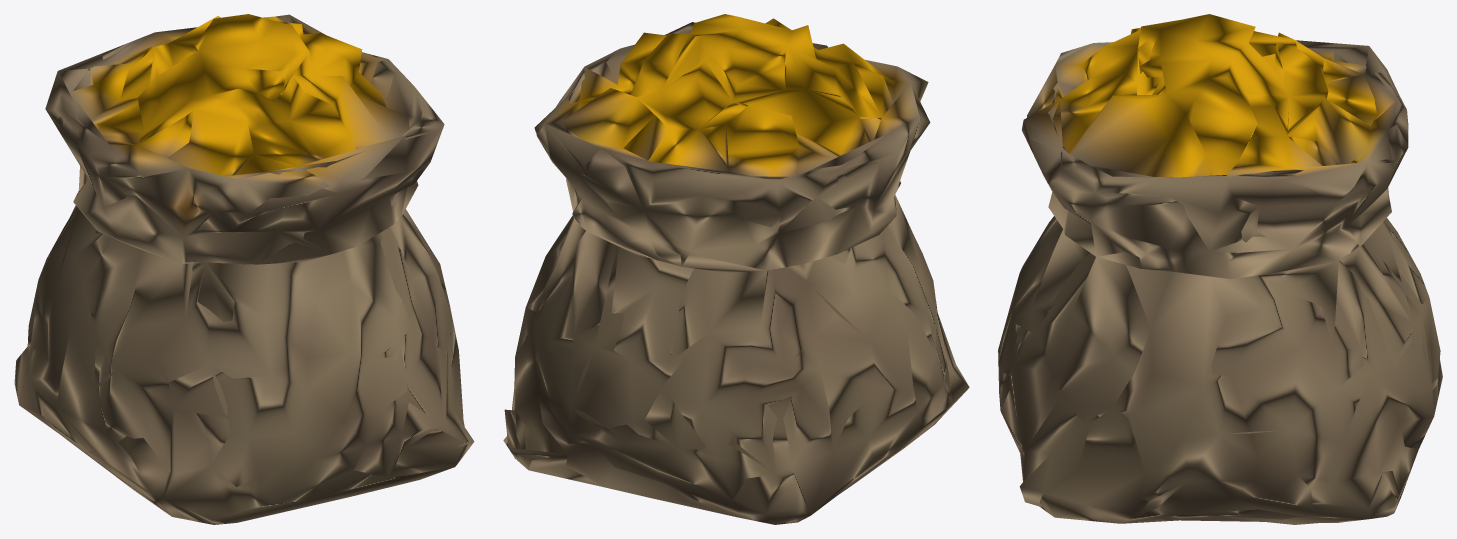
File: gen3d-treasure-sack-lod0.glb
3 renders of one model, left to right at view 1: azimuth 30°, elevation 25°; view 2: azimuth 150°, elevation 25°; view 3: azimuth 270°, elevation 25°, orthographic. The views are drawn at different scales.
Visible parts, largest first — view 1: part_0; view 2: part_0; view 3: part_0.
Part boxes in pixels (bbox=[...]): part_0: bbox=[14, 14, 474, 524]; part_0: bbox=[503, 14, 969, 524]; part_0: bbox=[998, 14, 1442, 524].
Size of the model in its own units: 0.9367 by 0.9933 by 0.9437.
